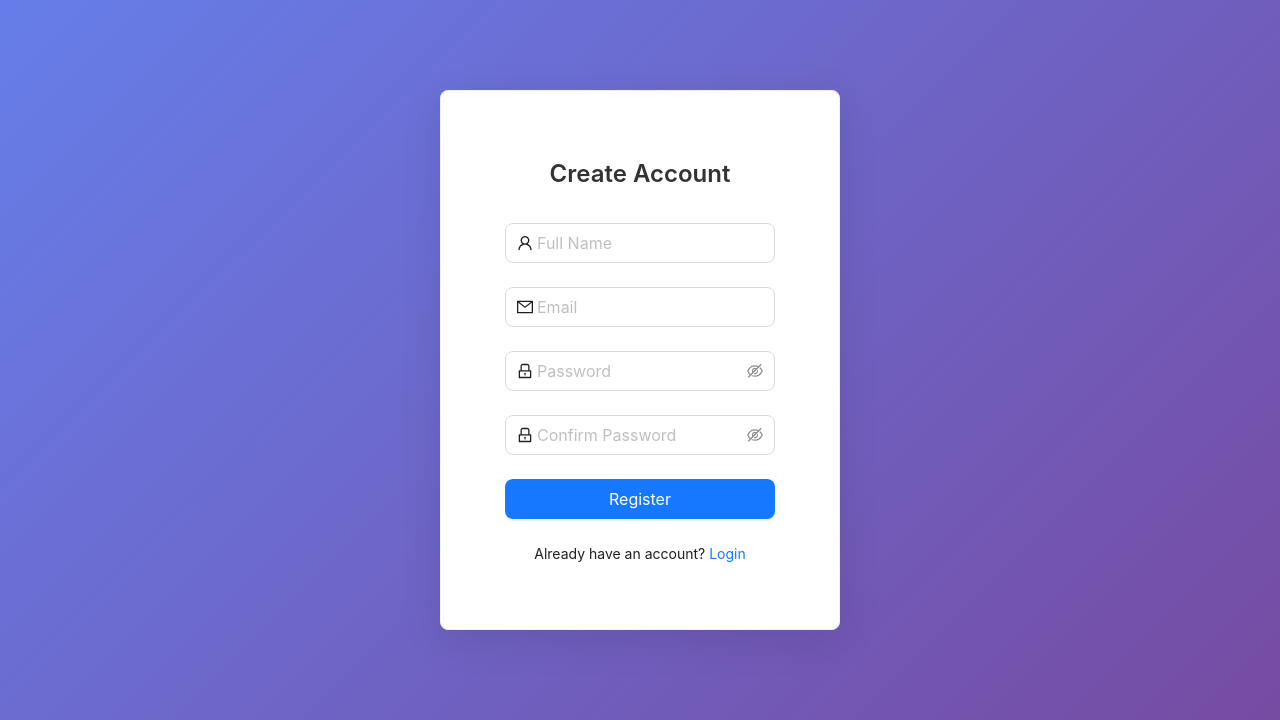
Test: Register Component › should show validation error for invalid email
The width and height of the screenshot is (1280, 720).
In the field with placeholder "Email": (650, 307) [537,295,763,319], type "invalid-email"
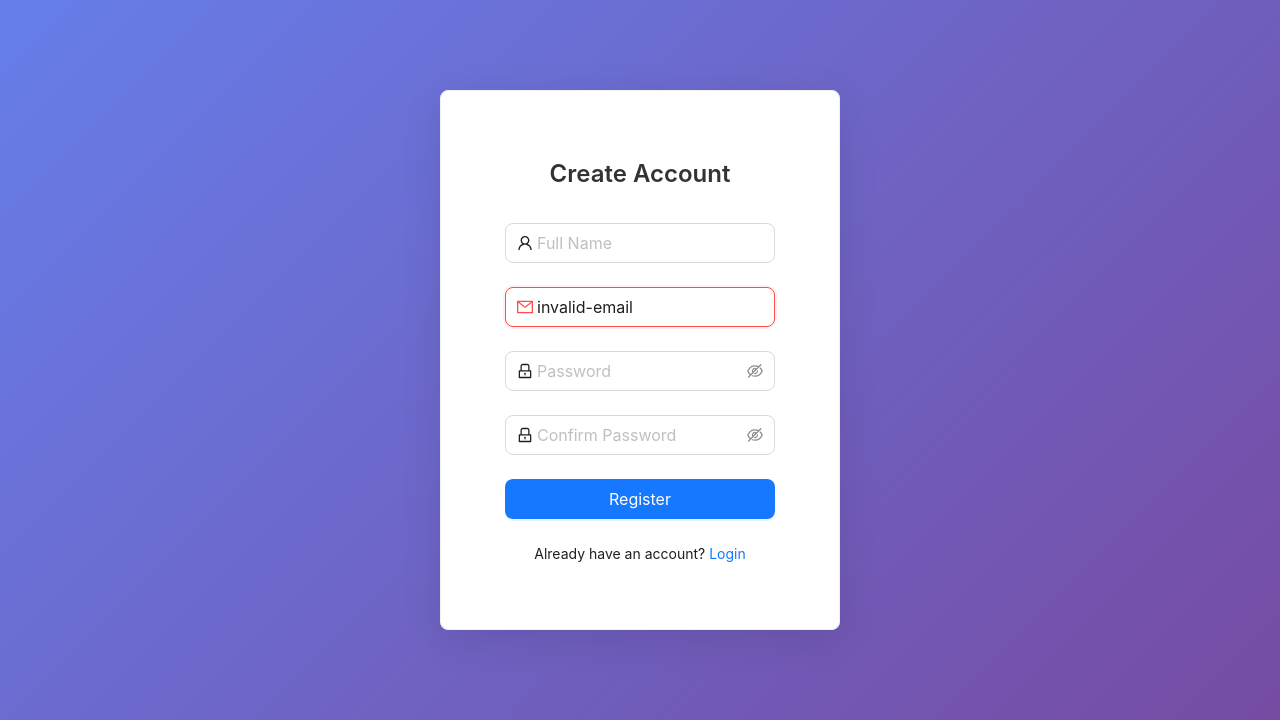
Click the button "Register": (640, 499) [505,479,775,519]
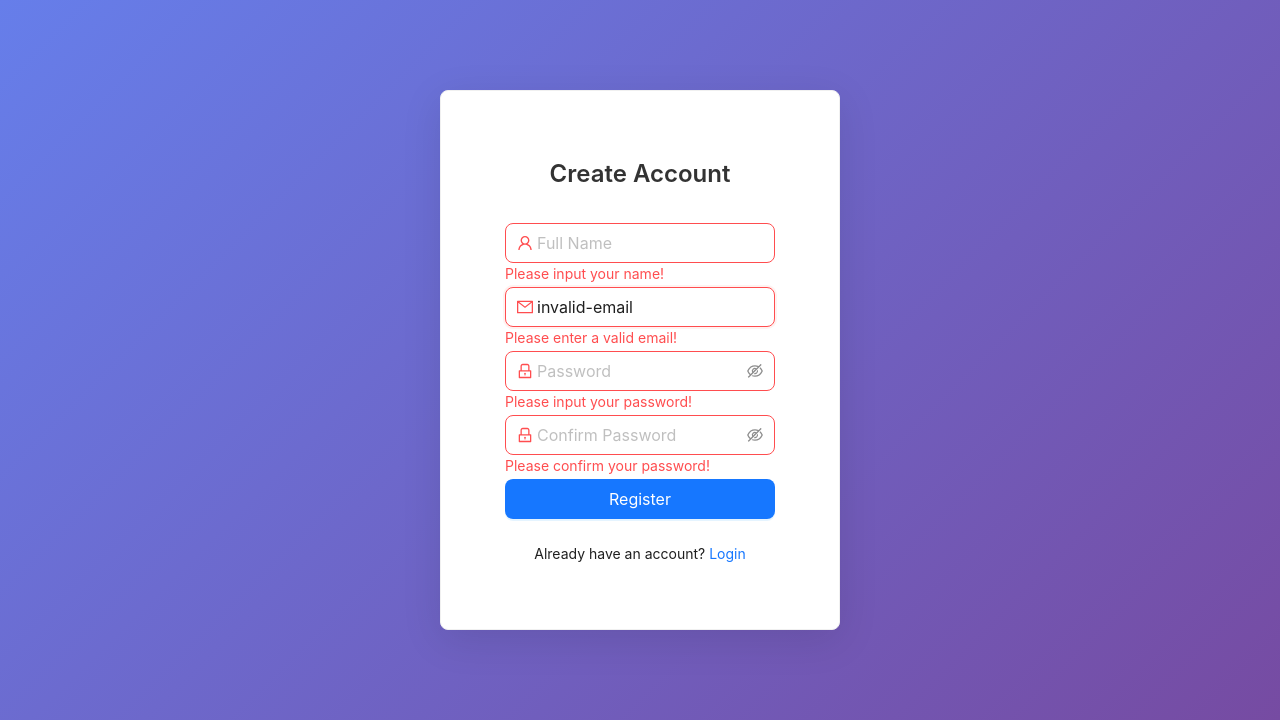
Now the text "Please enter a valid email!" is shown, box [505,329,677,346]
